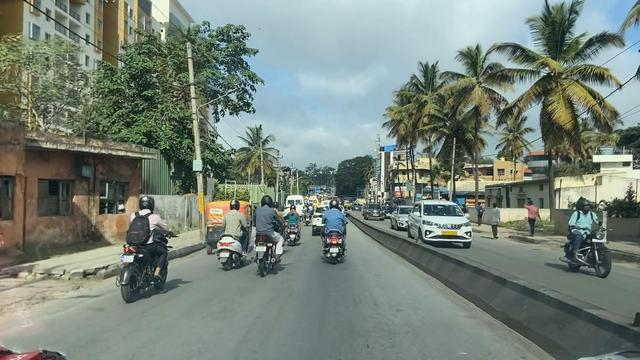LMV: (118, 197, 169, 300), (257, 199, 282, 272), (217, 203, 245, 263), (325, 200, 343, 257), (287, 207, 301, 249)
